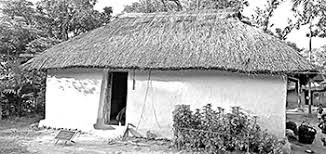Mud House: (18, 9, 309, 147)
